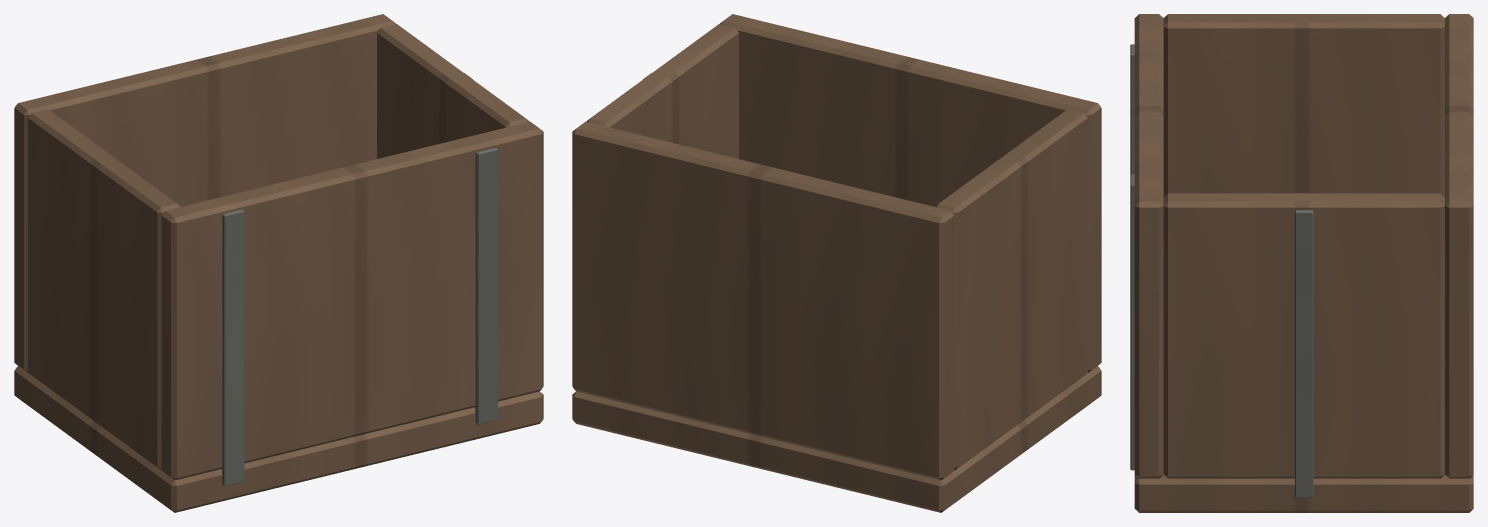
The model's file is WarrensC_WVC046_StorageCrateBody_Mars_SM.fbx.
3 views of the same model, side by side, from view 1: azimuth 30°, elevation 25°; view 2: azimuth 150°, elevation 25°; view 3: azimuth 270°, elevation 25° (orthographic). The views are drawn at different scales.
Visible parts, largest first — view 1: WarrensC_WVC046_StorageCrateBody_Mars_SM.001; view 2: WarrensC_WVC046_StorageCrateBody_Mars_SM.001; view 3: WarrensC_WVC046_StorageCrateBody_Mars_SM.001.
Part boxes in pixels (bbox=[...]): WarrensC_WVC046_StorageCrateBody_Mars_SM.001: bbox=[14, 14, 543, 512]; WarrensC_WVC046_StorageCrateBody_Mars_SM.001: bbox=[572, 14, 1101, 512]; WarrensC_WVC046_StorageCrateBody_Mars_SM.001: bbox=[1130, 14, 1473, 512].
Size of the model in its own units: 80 by 60 by 60.
